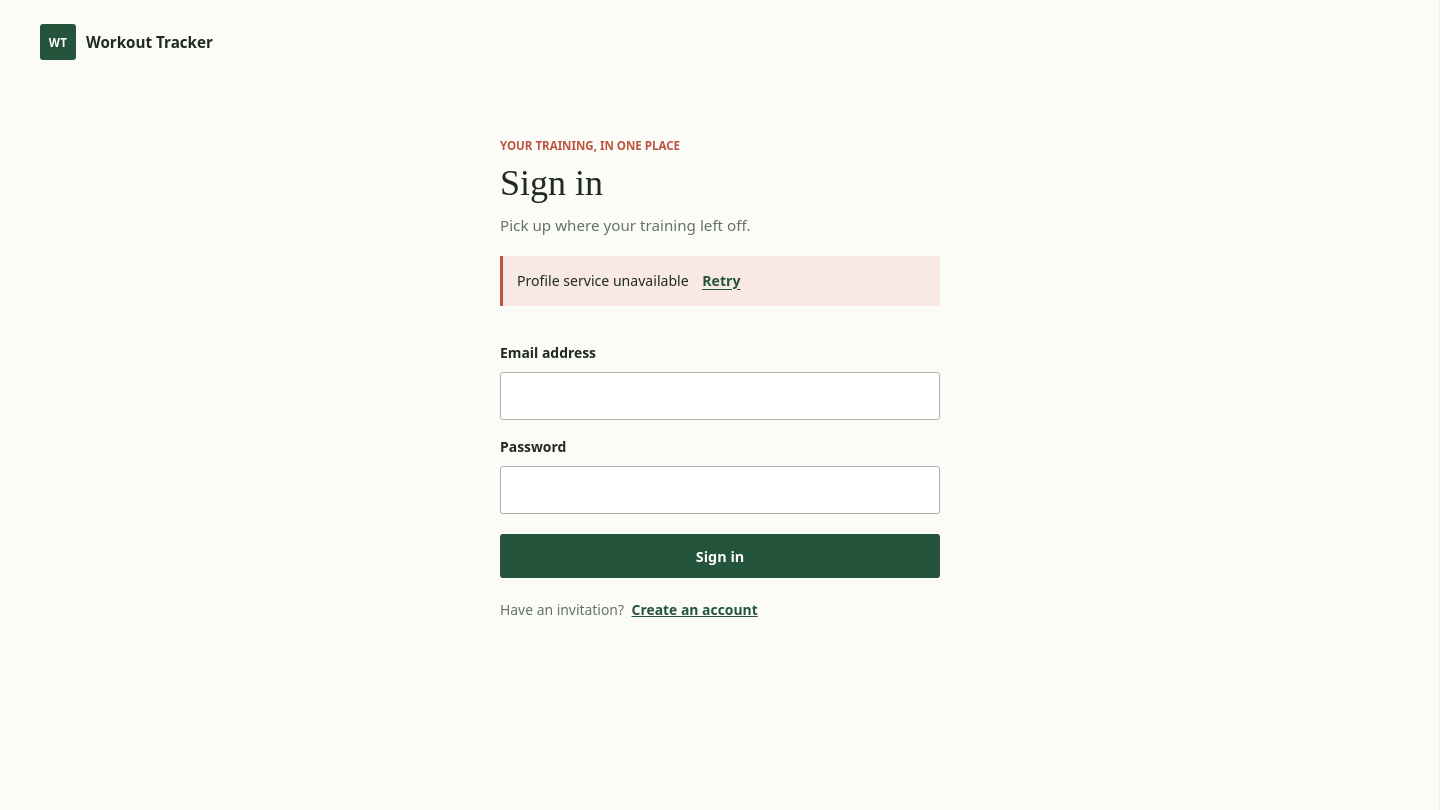
Test: shows profile loading failures and retries only after the user asks
The width and height of the screenshot is (1440, 810).
Check: the message shows "Profile service unavailable", box [517,271,692,290]
Click the button "Retry": (721,281) [700,268,742,294]
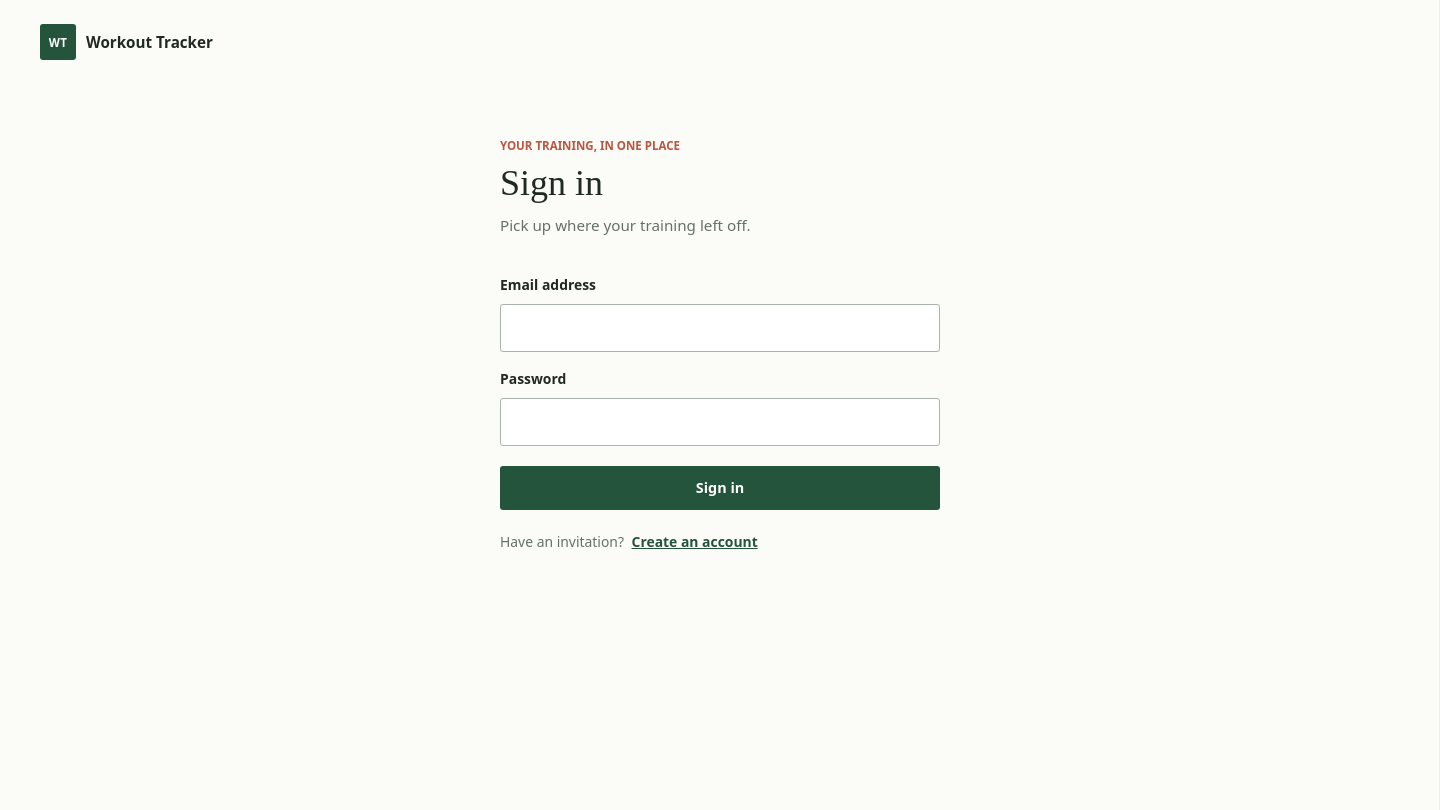
Check: the message "Profile service unavailable Retry" is gone
